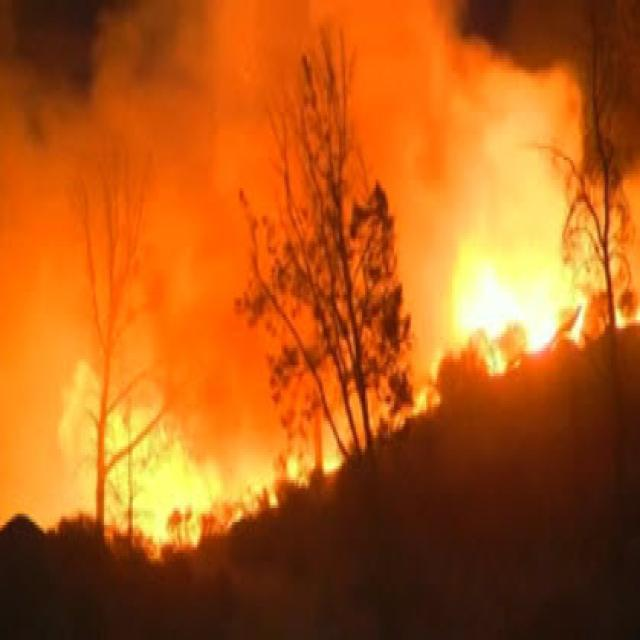Smoke: (0, 0, 635, 313)
